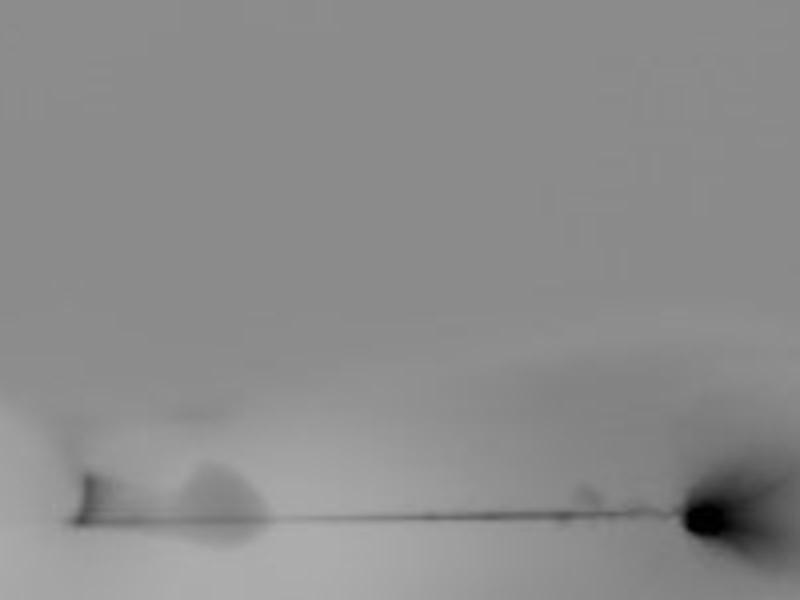defect: (181, 463, 271, 545), (681, 498, 736, 538)
